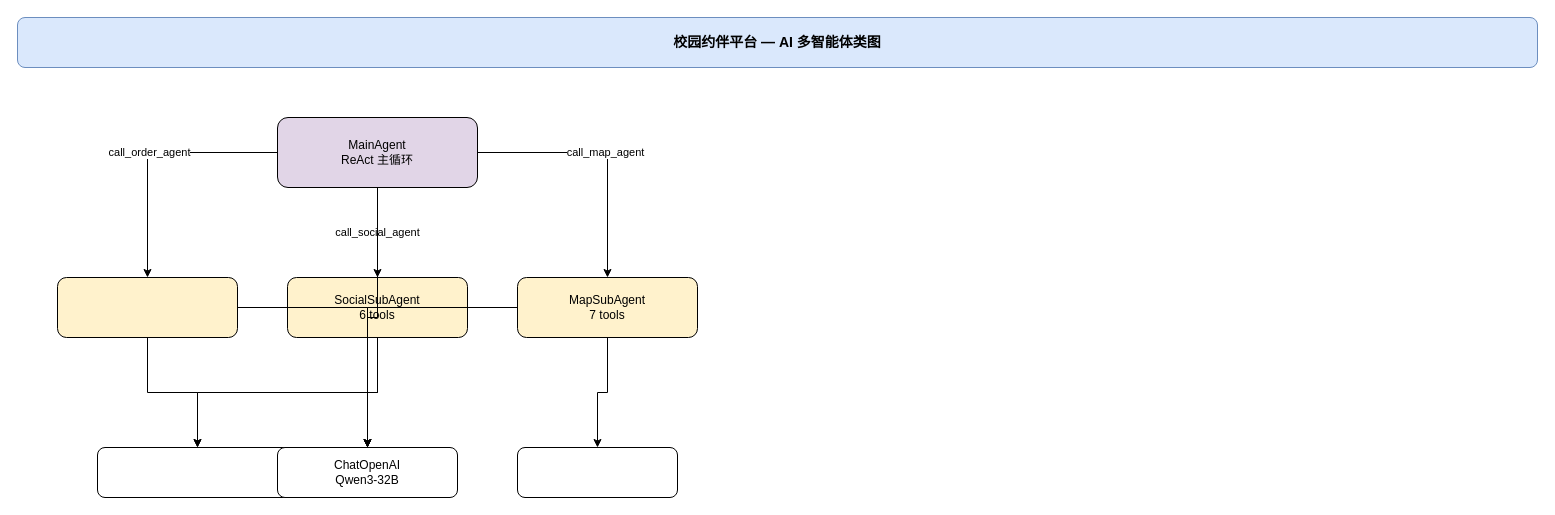
This 1555x515 diagram has some shape labels left out. The shapes that lost their labels are listed below. From the top down, each one's centre as x and y in pixels, then its label:
the point at 147,307: OrderSubAgent 8 tools
the point at 197,472: BackendClient → Java API
the point at 597,472: 高德 MCP Server
